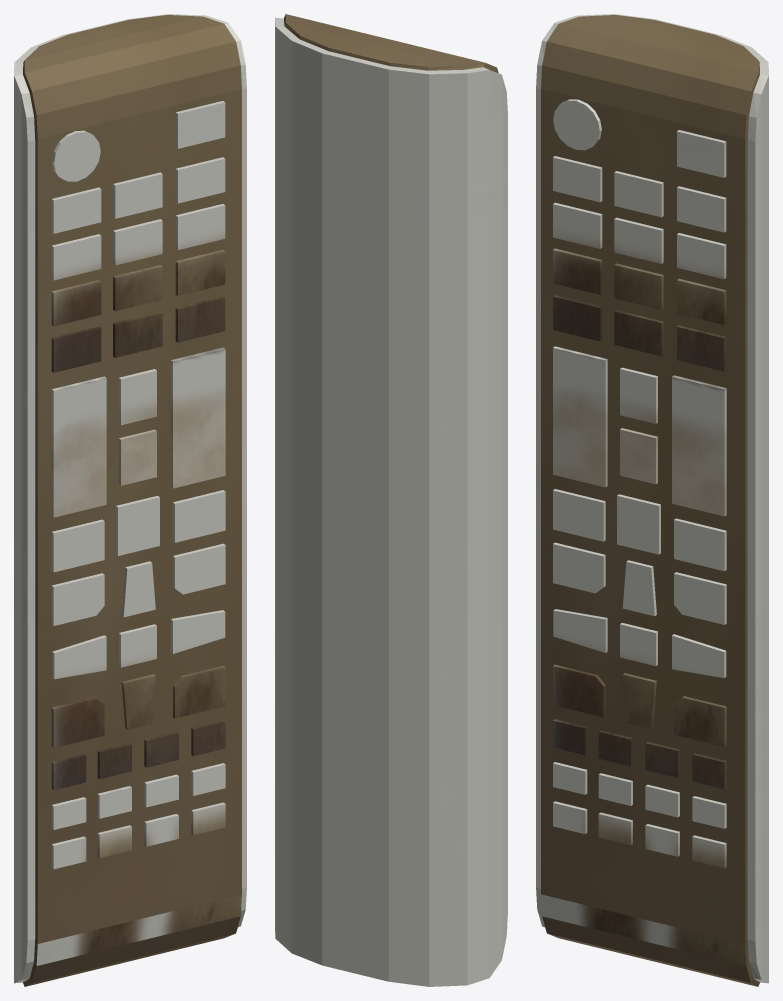
File: remote control_6.obj
3 renders of one model, left to right at view 1: azimuth 30°, elevation 25°; view 2: azimuth 150°, elevation 25°; view 3: azimuth 330°, elevation 25°, orthographic.
Bounding box in the file's own units: 4.51 × 18.04 × 1.69.
